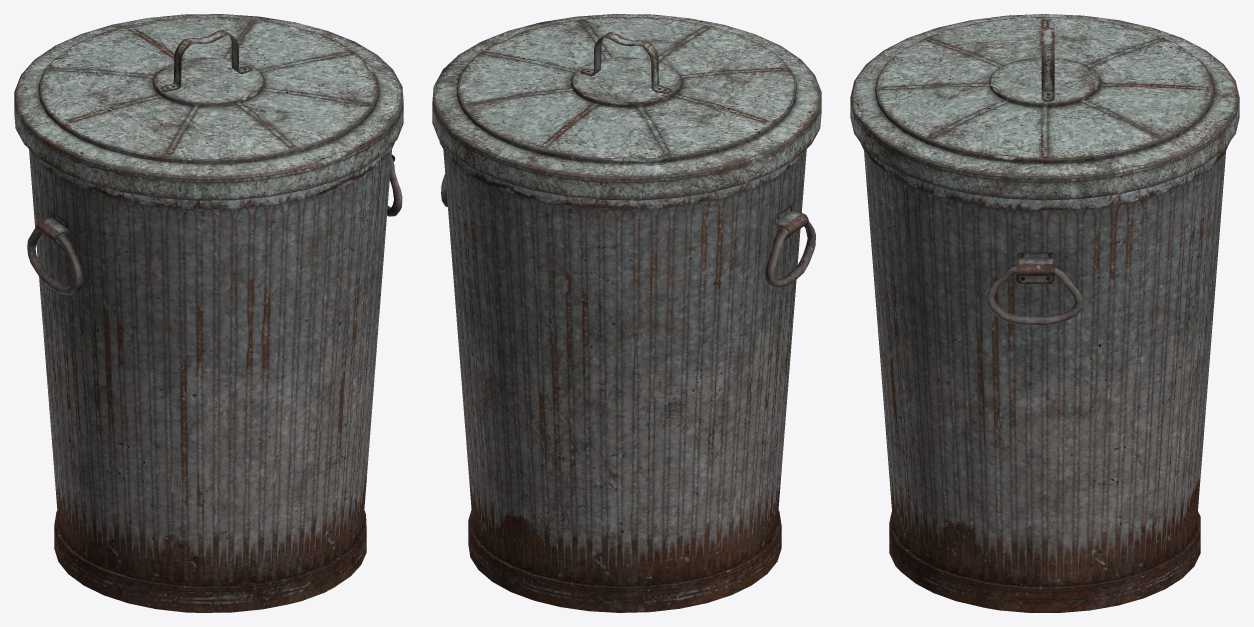
File: trashcan1.glb
3 renders of one model, left to right at view 1: azimuth 30°, elevation 25°; view 2: azimuth 150°, elevation 25°; view 3: azimuth 270°, elevation 25°, orthographic.
Visible parts, largest first — view 1: Object_12; view 2: Object_12; view 3: Object_12.
Boxes of the visible parts, left/top/right/bottom form: Object_12: left=14, top=14, right=403, bottom=612; Object_12: left=432, top=14, right=821, bottom=612; Object_12: left=850, top=14, right=1239, bottom=612.
Bounding box in the file's own units: 0.5257 × 0.7518 × 0.5209.
1 material, 1 textured.
